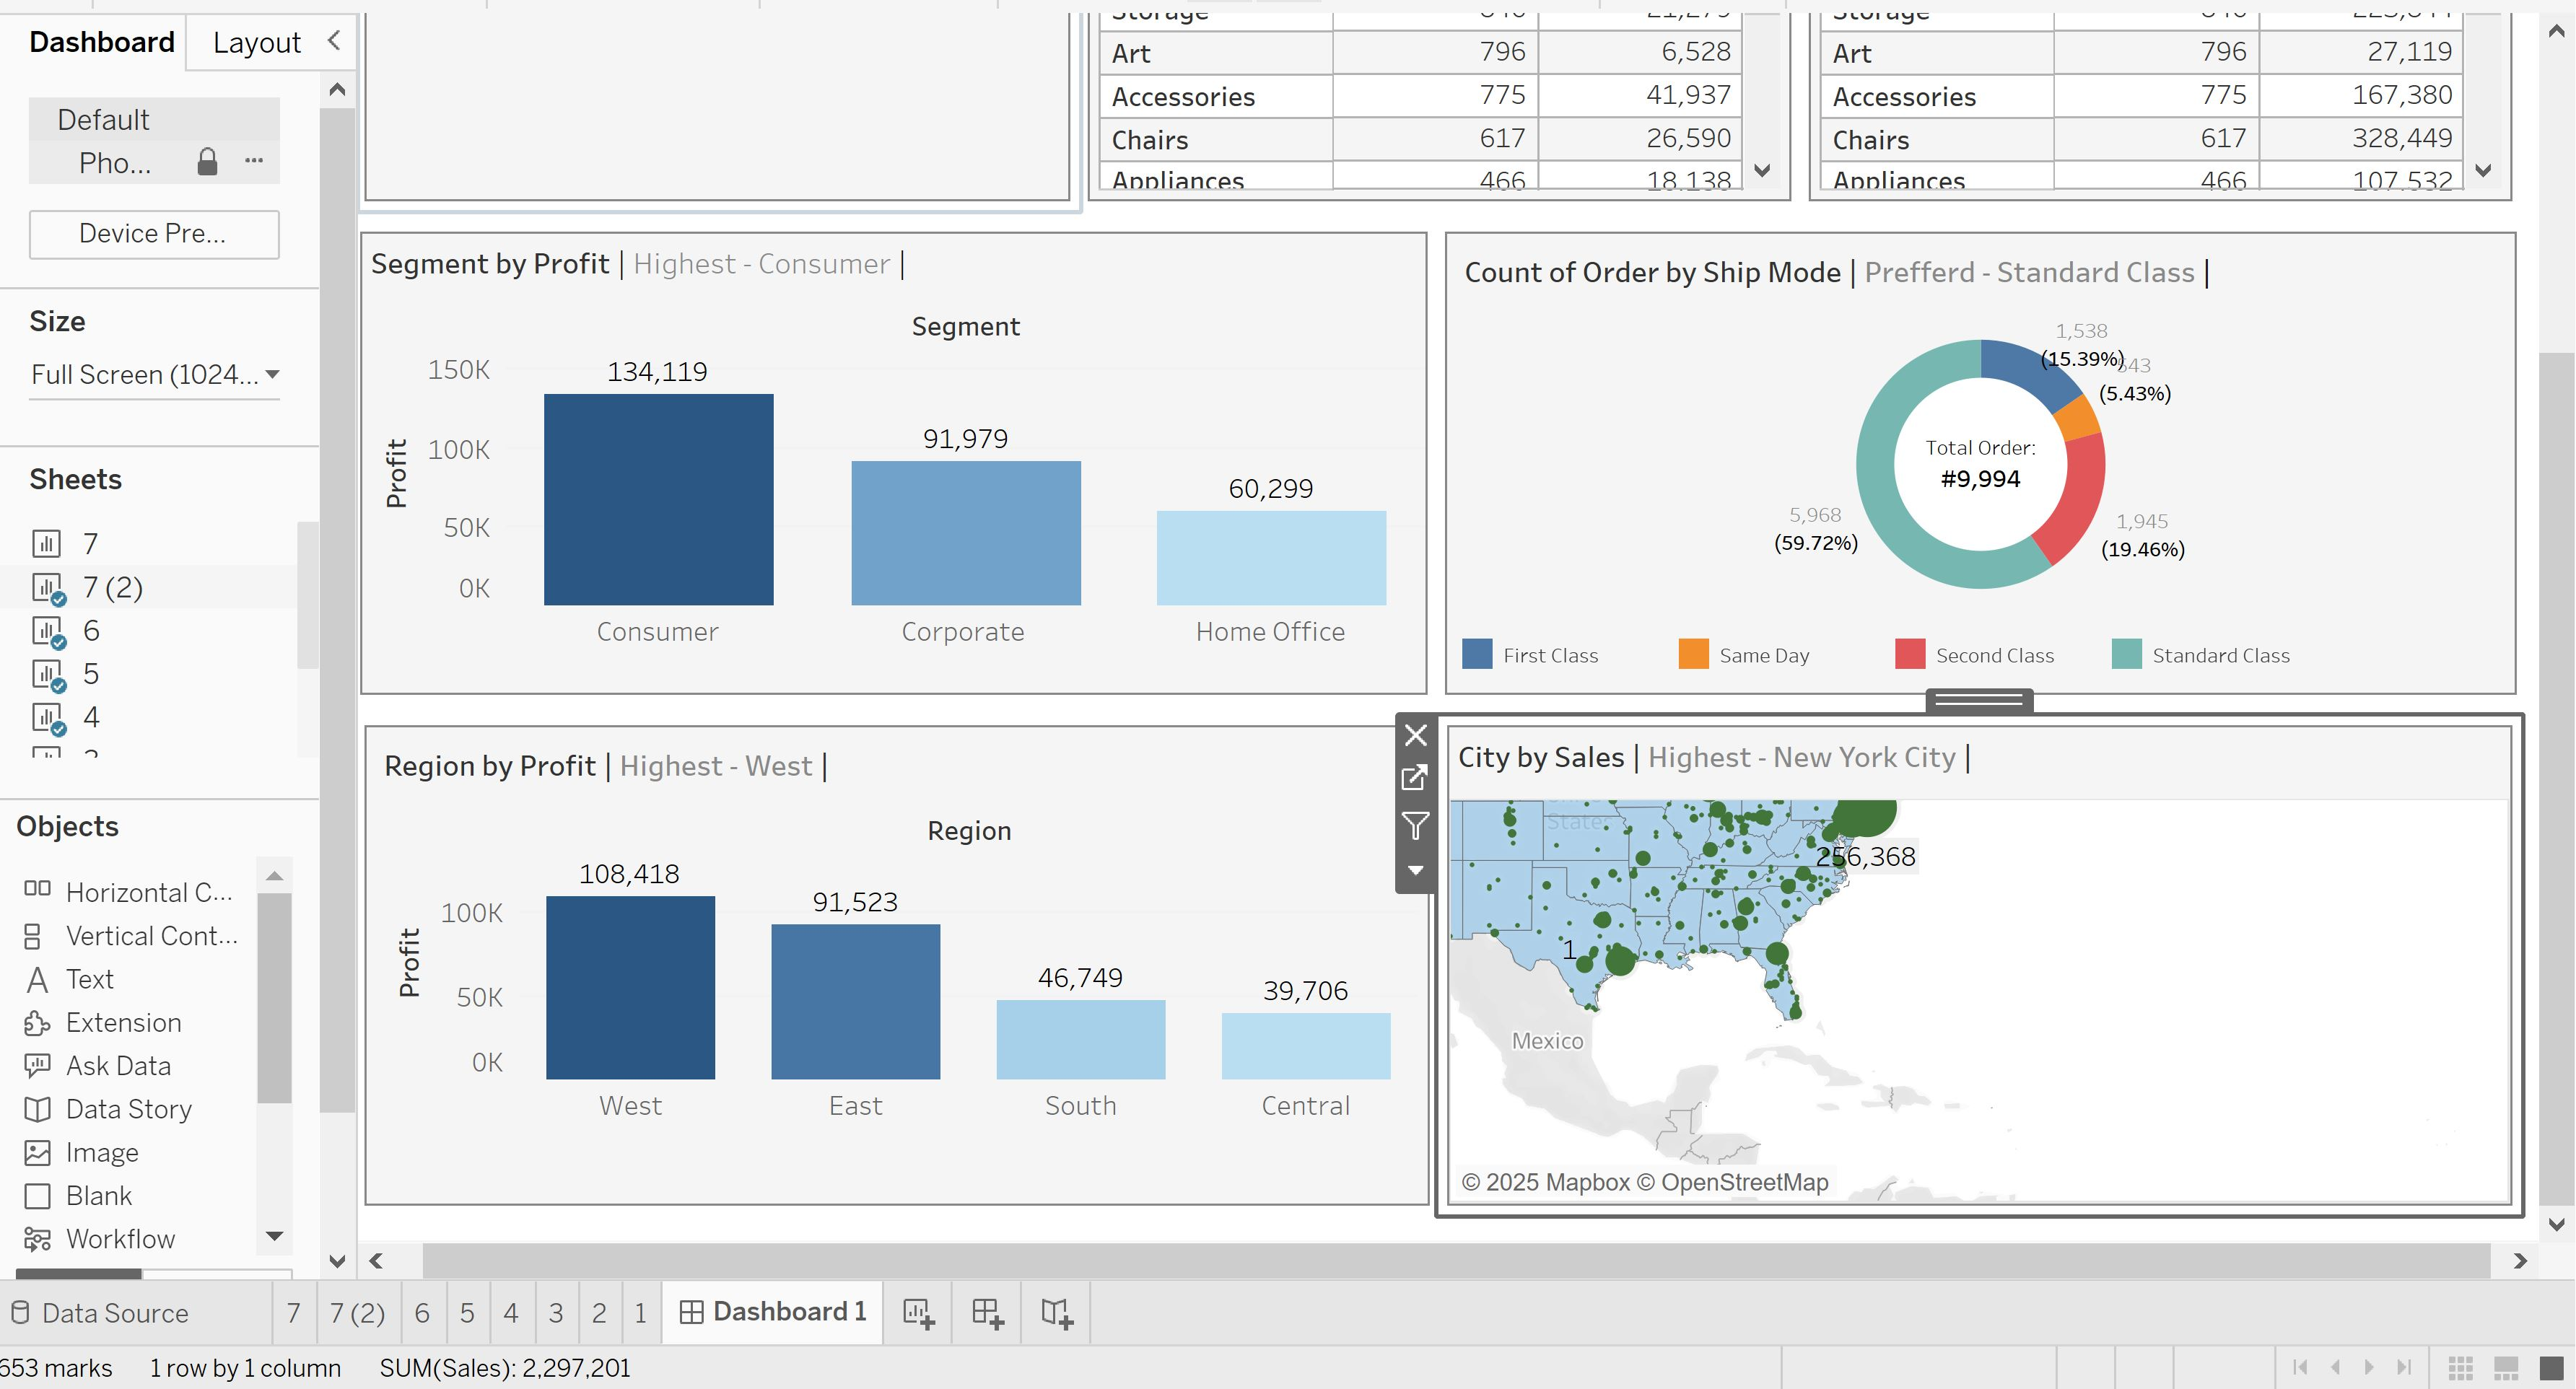

Layout of this report page (visuals, bound fields, positions):
{"tool":"tableau","page":{"name":"Dashboard 1","canvas":[1024,768],"ordinal":0},"visuals":[{"type":"text","box":[8,8,1008,35]},{"type":"worksheet","title":"1","mark":"Automatic","rows":["Category"],"box":[17,52,324,123]},{"type":"worksheet","title":"2","mark":"Automatic","rows":["Sub-Category"],"box":[351,52,323,235]},{"type":"worksheet","title":"3","mark":"Automatic","rows":["Sub-Category"],"box":[684,52,323,235]},{"type":"worksheet","title":"4","mark":"Automatic","rows":["Profit"],"cols":["Segment"],"box":[10,298,501,222]},{"type":"worksheet","title":"5","mark":"Pie","rows":["Calculation_1010495189426417665","Calculation_1010495189426438147"],"box":[516,303,493,180]},{"type":"legend","title":"5","param":"[federated.0ttjrfo13dwgt314idh0d0dnoo5a].[none:Ship Mode:nk]","box":[516,483,493,32]},{"type":"worksheet","title":"7 (2)","mark":"Automatic","box":[512,526,500,230]},{"type":"worksheet","title":"6","mark":"Automatic","rows":["Profit"],"cols":["Region"],"box":[17,531,490,188]}]}

Visuals, with their boxes on the page's 1024x768 design canvas (x1, y1, x2, y2). These are canvas units, not pixel positions in the 2576x1389 screenshot, which may show the page scaled, cropped or inside an application window:
text: Rect(8, 8, 1016, 43)
"1" worksheet: Rect(17, 52, 341, 175)
"2" worksheet: Rect(351, 52, 674, 287)
"3" worksheet: Rect(684, 52, 1007, 287)
"4" worksheet: Rect(10, 298, 511, 520)
"5" worksheet (Pie marks): Rect(516, 303, 1009, 483)
"5" legend: Rect(516, 483, 1009, 515)
"7 (2)" worksheet: Rect(512, 526, 1012, 756)
"6" worksheet: Rect(17, 531, 507, 719)
